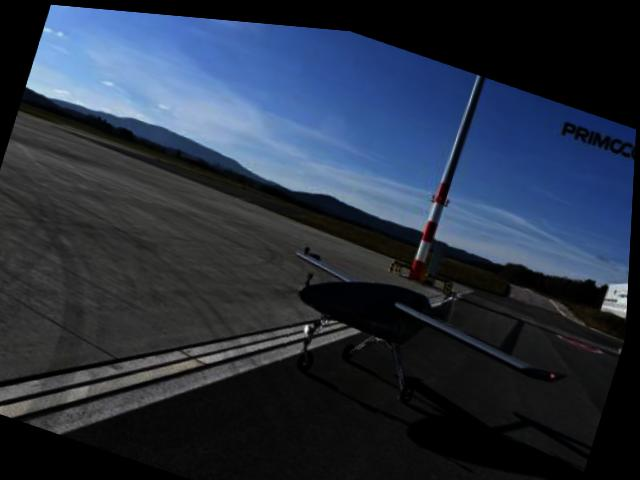uav: (266, 231, 587, 442)
